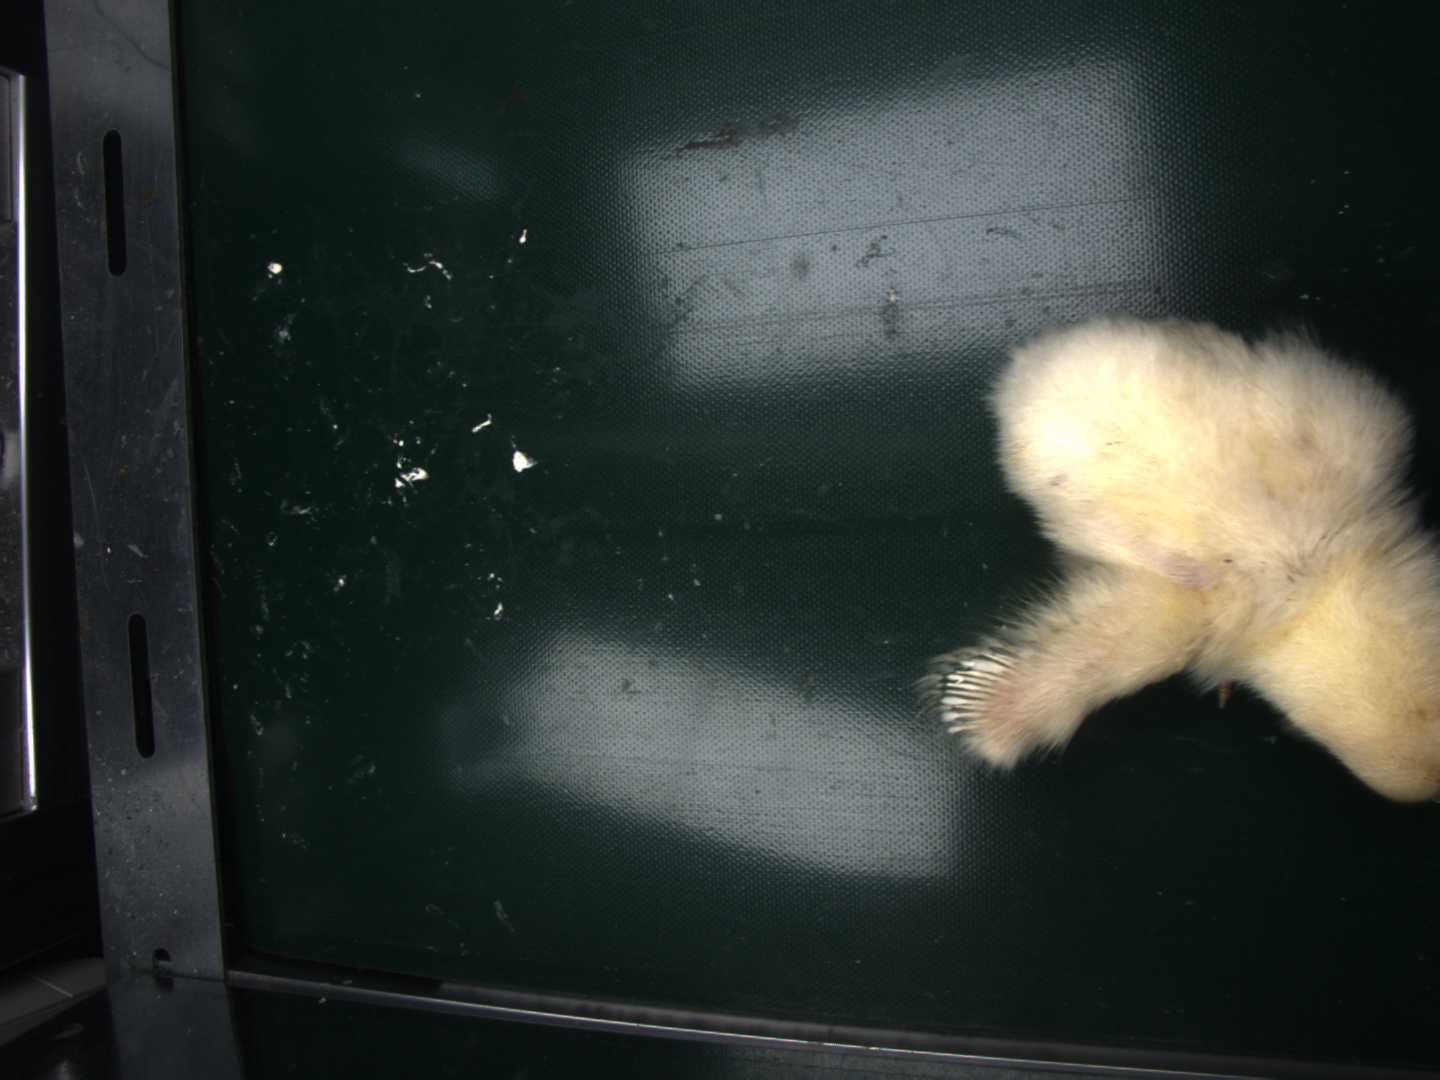male: (942, 653, 1013, 732)
